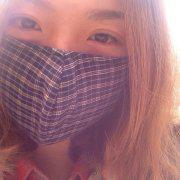OK: (5, 8, 131, 143)
